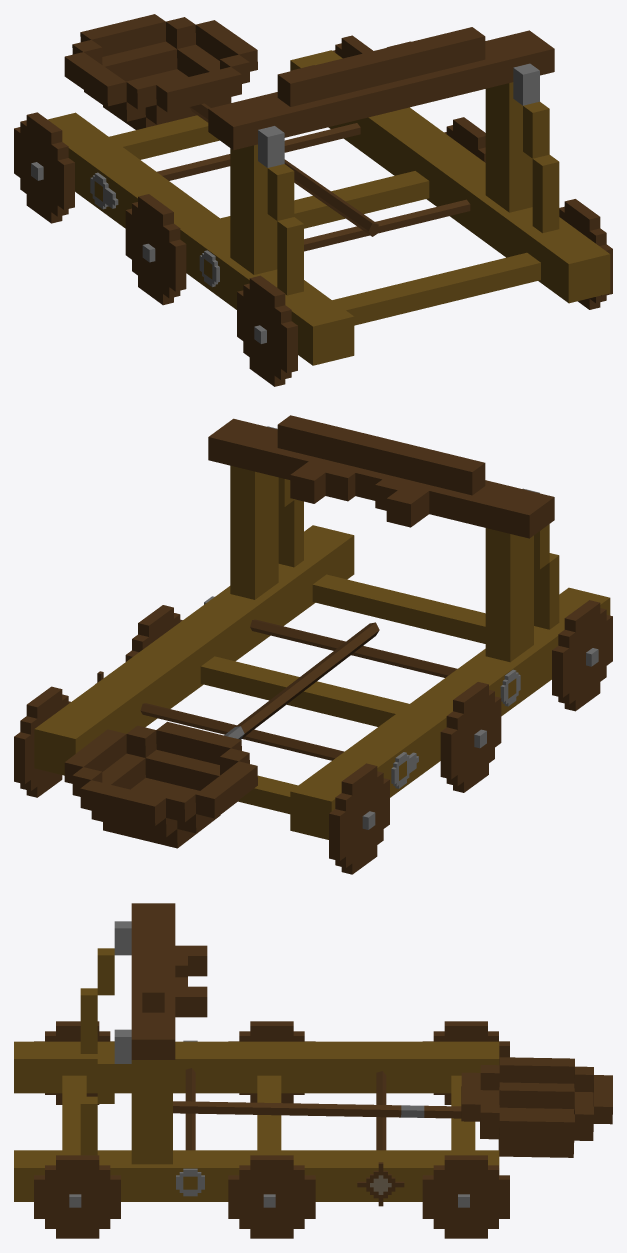
Rendered from Catapult.fbx.
3 renders of one model, top to bottom at view 1: azimuth 30°, elevation 25°; view 2: azimuth 150°, elevation 25°; view 3: azimuth 270°, elevation 25°, orthographic. The views are drawn at different scales.
Parts seen in each view (by area): view 1: Catapult_Part3, Catapult_Part2, Catapult_Part1, Catapult_Arm; view 2: Catapult_Part2, Catapult_Part3, Catapult_Part1, Catapult_Arm; view 3: Catapult_Part2, Catapult_Part1, Catapult_Part3, Catapult_Arm.
Part boxes in pixels (x1,y1,x2,y2): Catapult_Part3: [208, 27, 559, 295]; Catapult_Part2: [47, 50, 610, 365]; Catapult_Part1: [14, 35, 612, 386]; Catapult_Arm: [64, 14, 378, 236]; Catapult_Part2: [34, 525, 610, 839]; Catapult_Part3: [208, 415, 559, 662]; Catapult_Part1: [14, 574, 612, 874]; Catapult_Arm: [64, 622, 379, 848]; Catapult_Part2: [14, 1040, 499, 1206]; Catapult_Part1: [34, 1021, 509, 1238]; Catapult_Part3: [80, 903, 207, 1164]; Catapult_Arm: [173, 1057, 612, 1157].
Size of the model in its own units: 590 by 419 by 1041.
